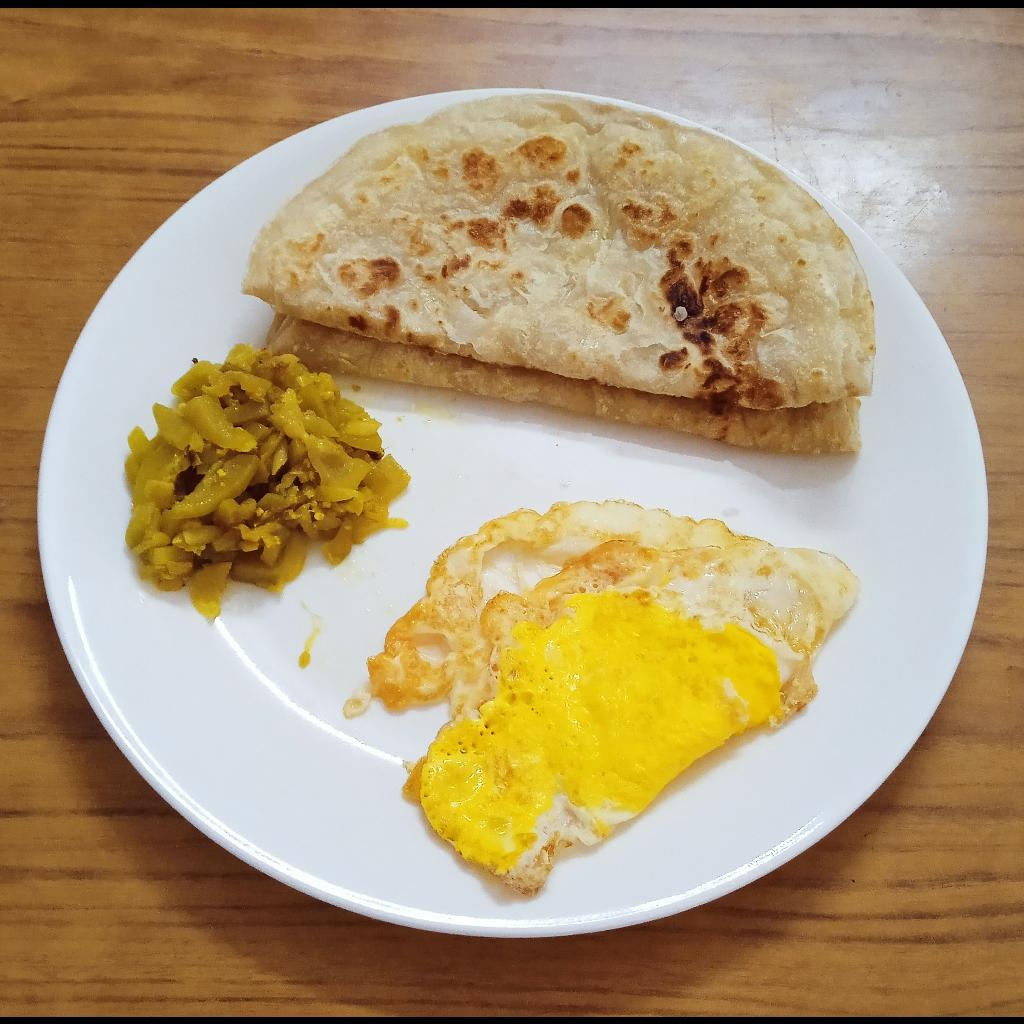egg-poached: (341, 497, 860, 893)
ruti: (240, 92, 879, 456)
vegetable: (120, 343, 409, 625)
